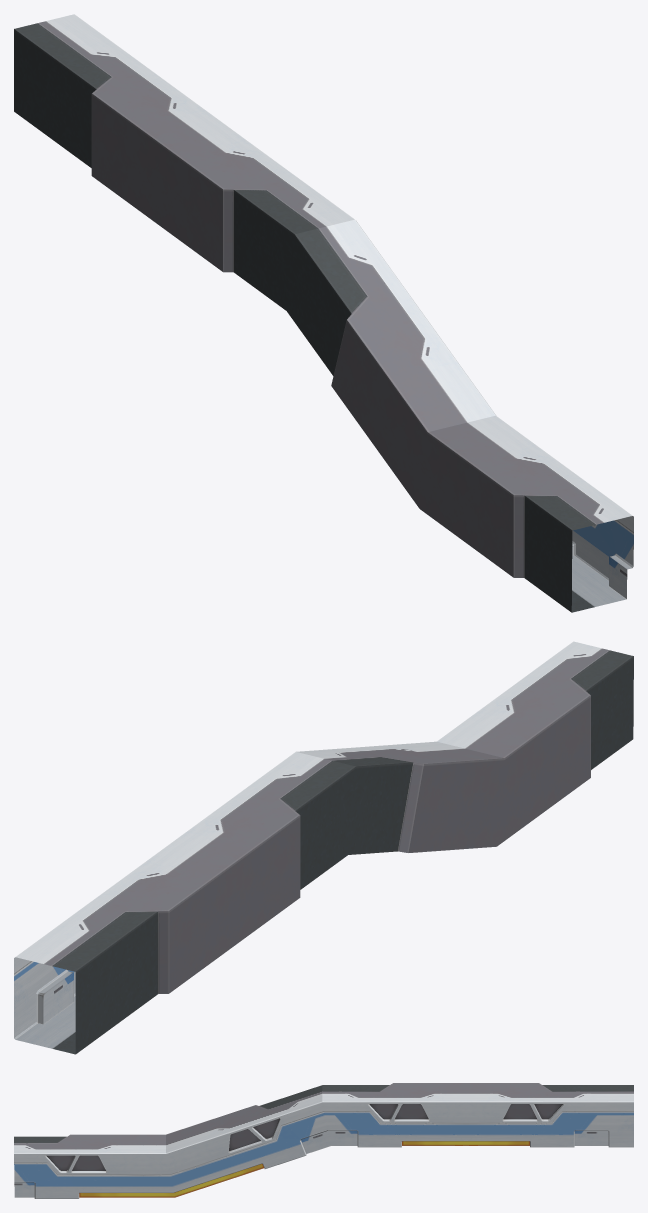
The model's file is mesh_1002_zhucheng_zjz_baobian003b.FBX.
3 views of the same model, one above another, from view 1: azimuth 30°, elevation 25°; view 2: azimuth 150°, elevation 25°; view 3: azimuth 270°, elevation 25° (orthographic). The views are drawn at different scales.
Visible parts, largest first — view 1: mesh_1002_zhucheng_zjz_baobian003b; view 2: mesh_1002_zhucheng_zjz_baobian003b; view 3: mesh_1002_zhucheng_zjz_baobian003b.
Boxes of the visible parts, <box> form: mesh_1002_zhucheng_zjz_baobian003b: <box>14,14,633,612</box>; mesh_1002_zhucheng_zjz_baobian003b: <box>14,641,633,1054</box>; mesh_1002_zhucheng_zjz_baobian003b: <box>14,1083,633,1198</box>.
Size of the model in its own units: 217 by 524 by 3019.
